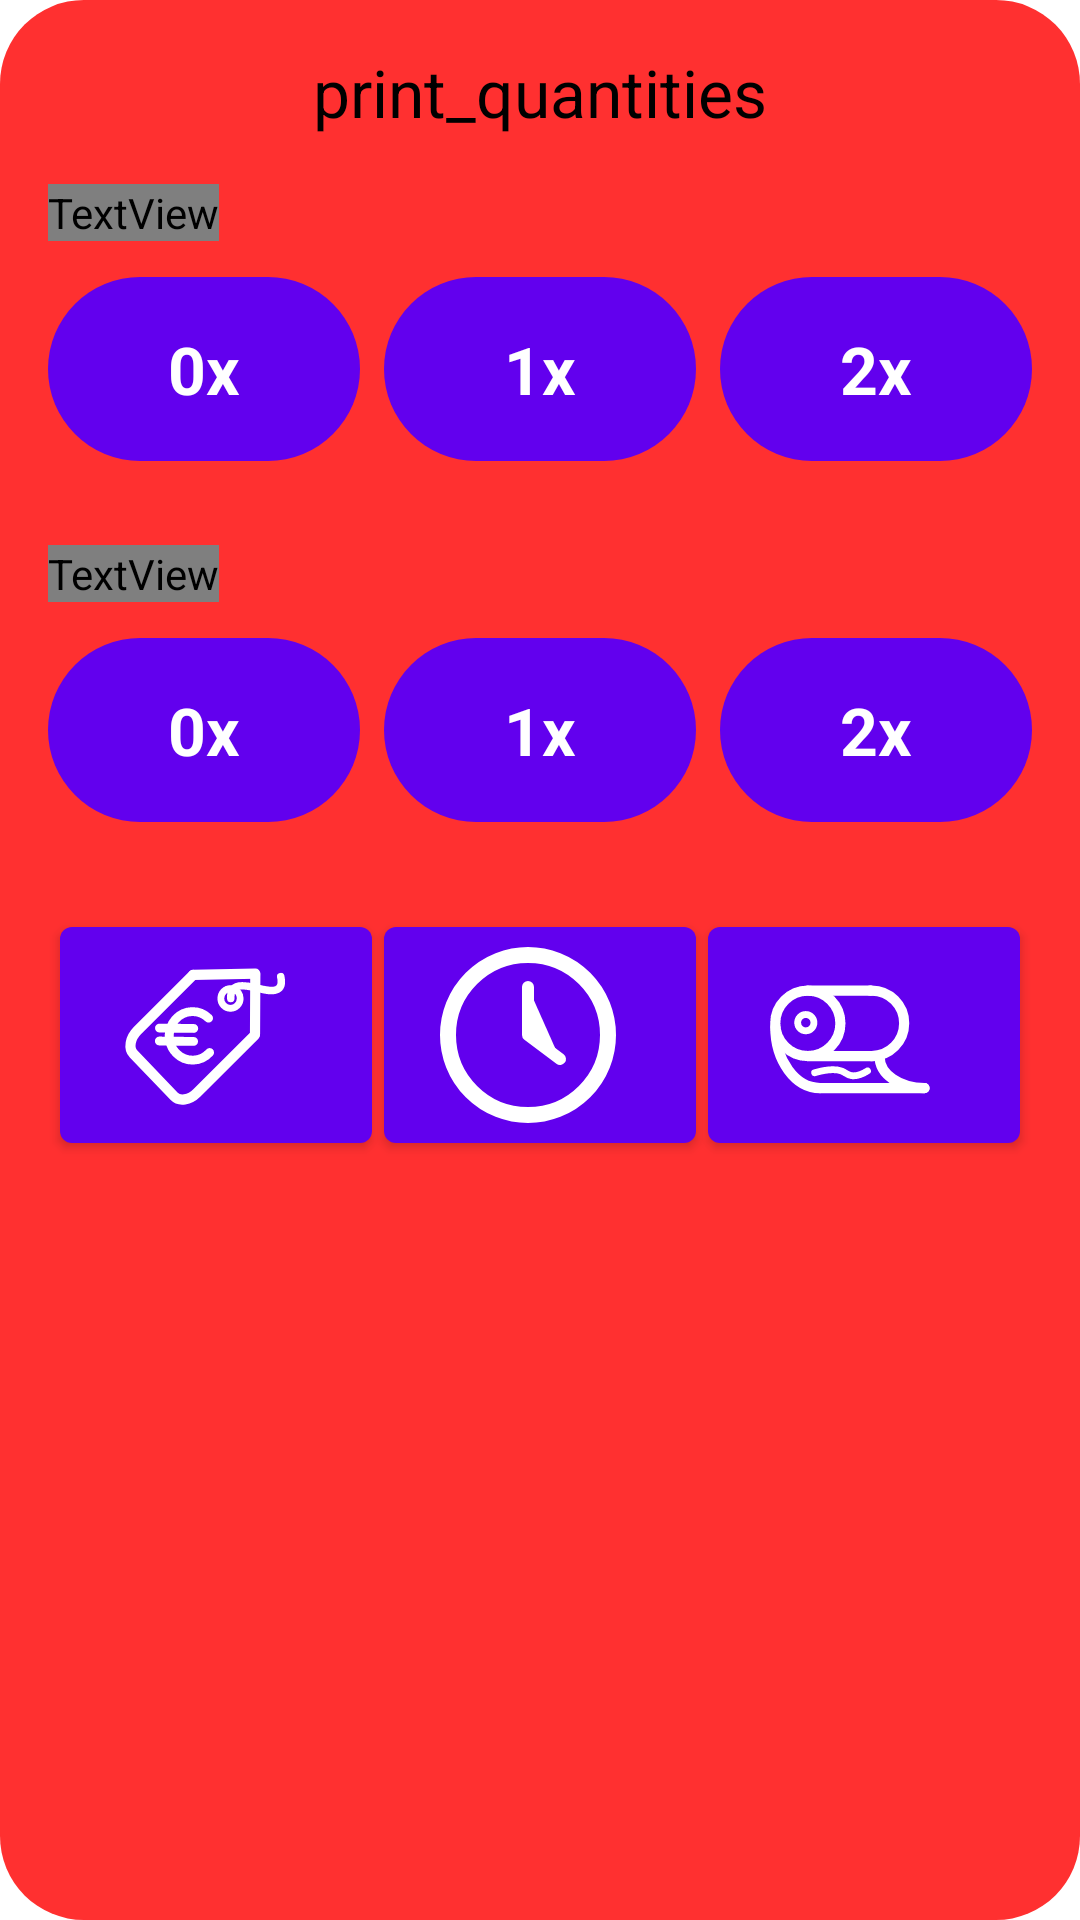

Where icons sit on this 1080w x 1920h app screen, as (x1, y1, x2, y2):
euro: (60, 927, 372, 1146)
time: (384, 927, 696, 1146)
